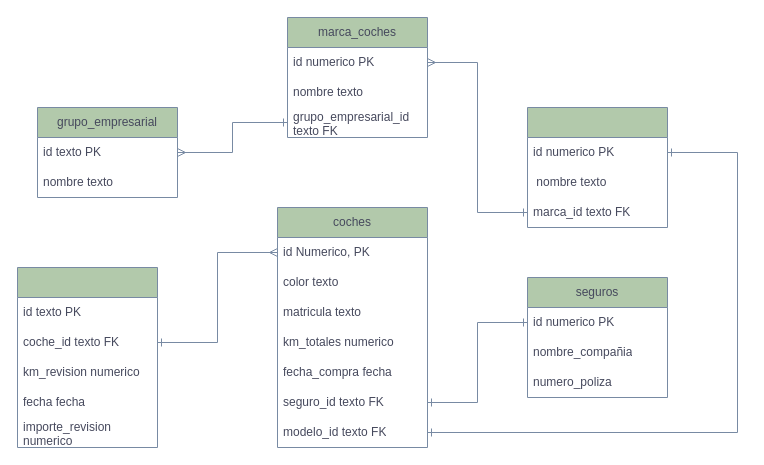
The diagram is 764 pixels wide and 465 high, and some of its shapes have lost their labels. Each missing label, with the box of its shape:
modelo_coches: (526, 106, 668, 228)
revisiones: (16, 266, 158, 448)
